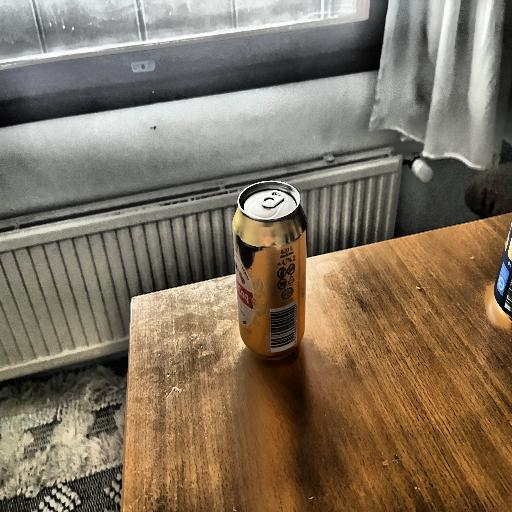A_LeCoq: (214, 167, 312, 382)
